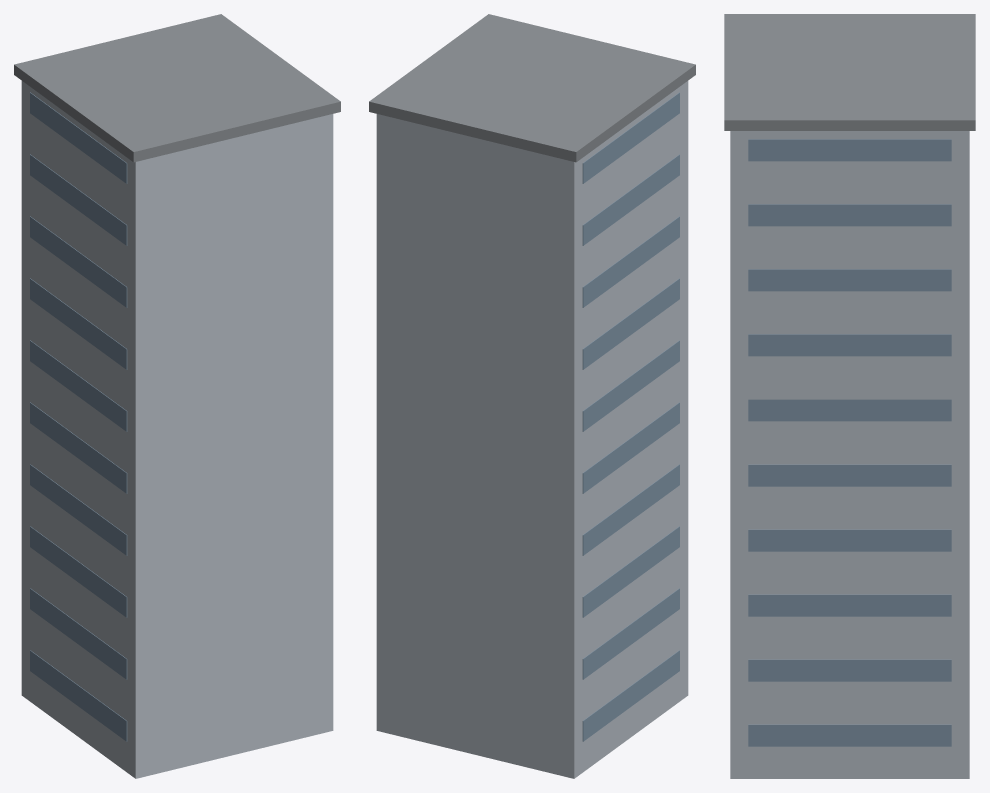
The model's file is building_tall.glb.
3 views of the same model, side by side, from view 1: azimuth 30°, elevation 25°; view 2: azimuth 150°, elevation 25°; view 3: azimuth 270°, elevation 25° (orthographic). The views are drawn at different scales.
Parts seen in each view (by area): view 1: prop; view 2: prop; view 3: prop.
Part boxes in pixels (<box>): prop: <box>14,14,340,778</box>; prop: <box>369,14,695,778</box>; prop: <box>724,14,975,778</box>.
Bounding box in the file's own units: 8.4 × 24.4 × 8.4.
